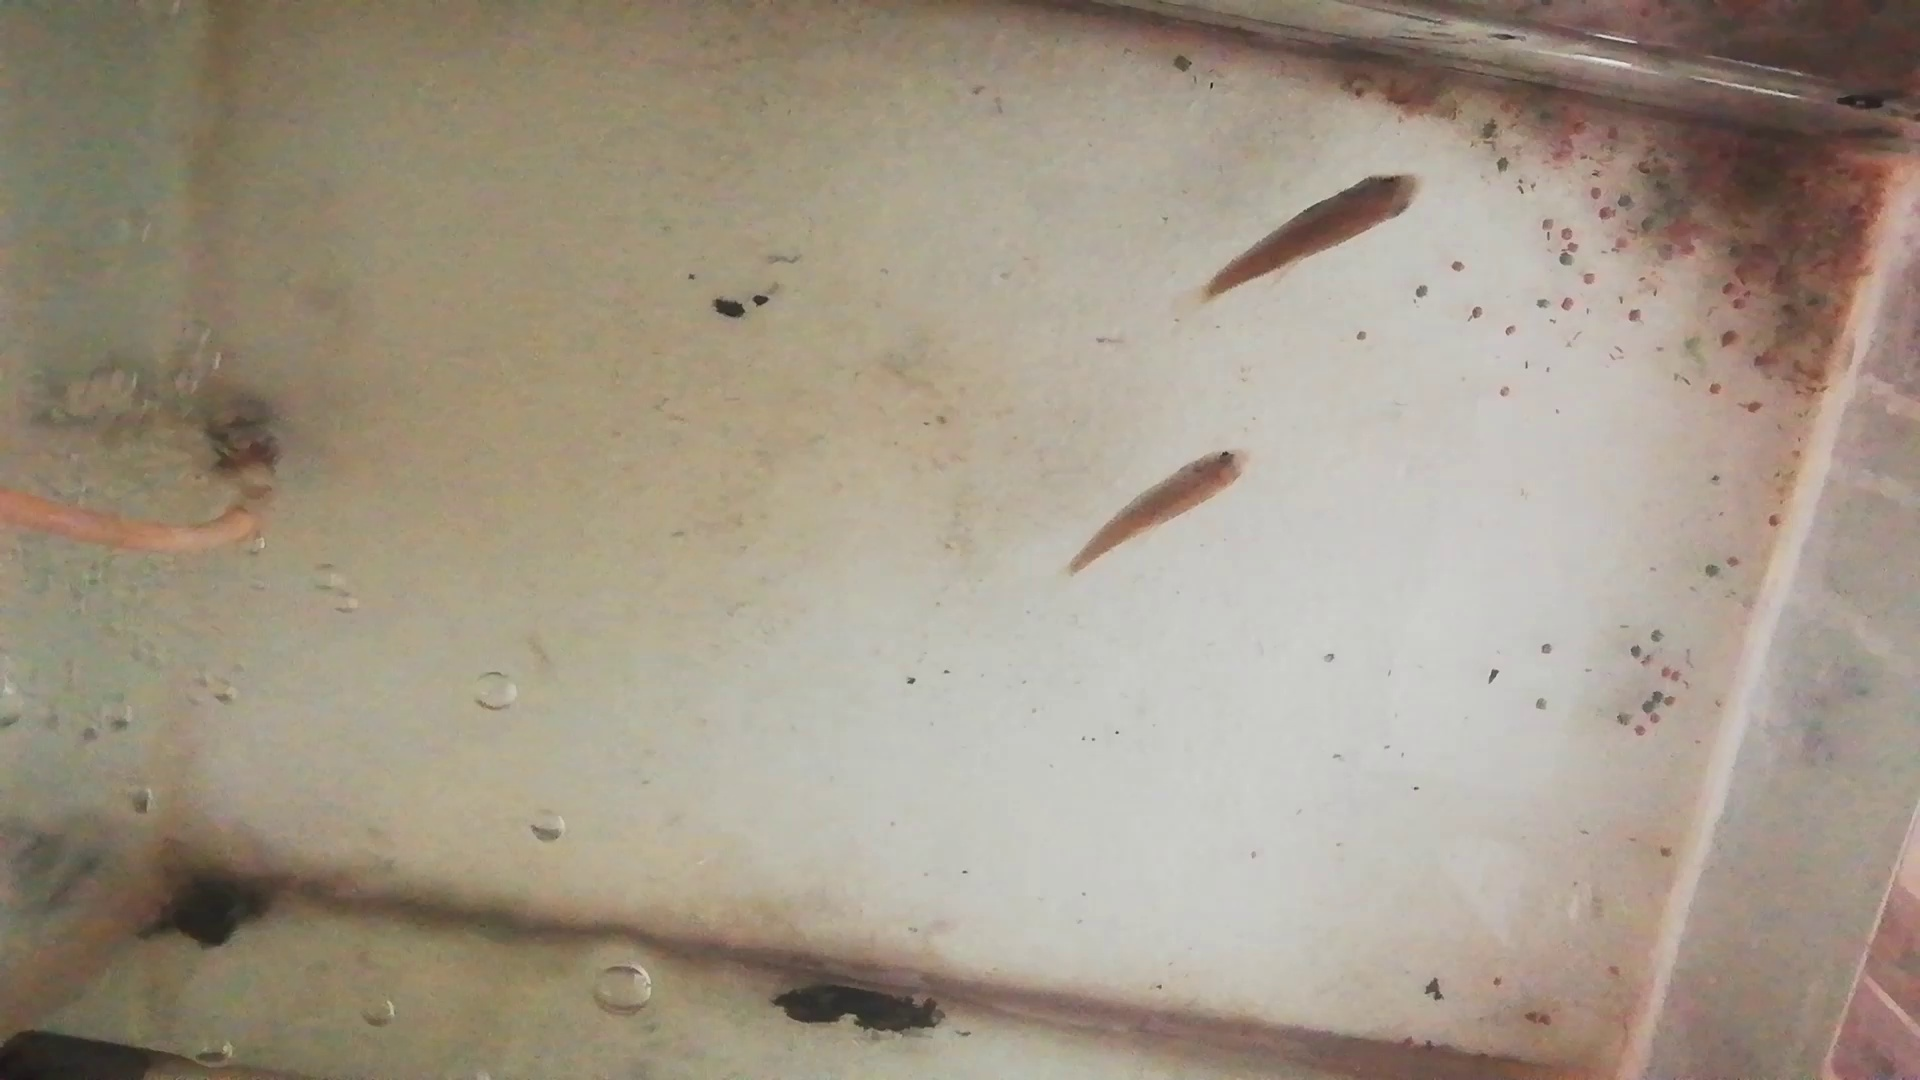fish: (1199, 171, 1424, 303), (1064, 444, 1251, 578)
